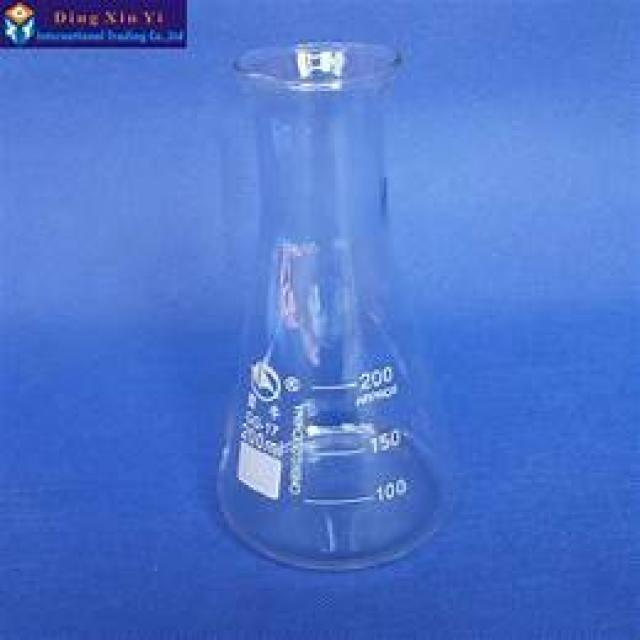Titrarion: (173, 43, 459, 566)
